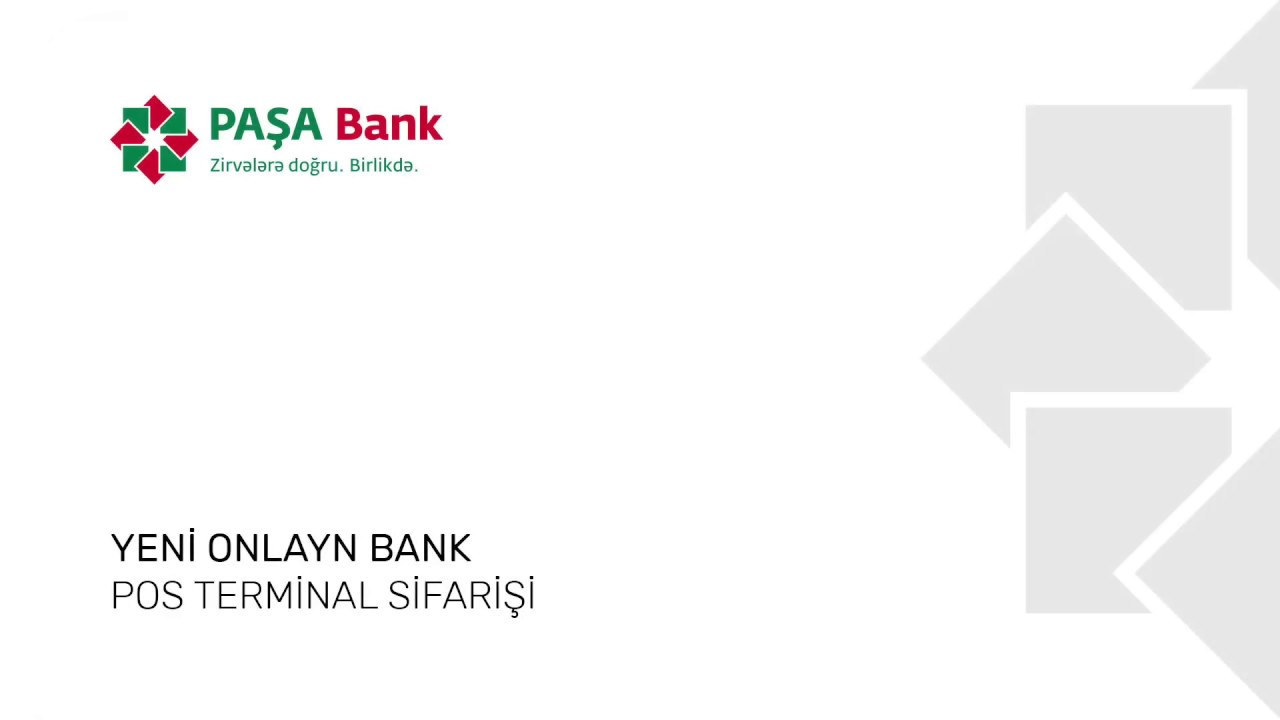Pasha Bank: (107, 93, 201, 187)
